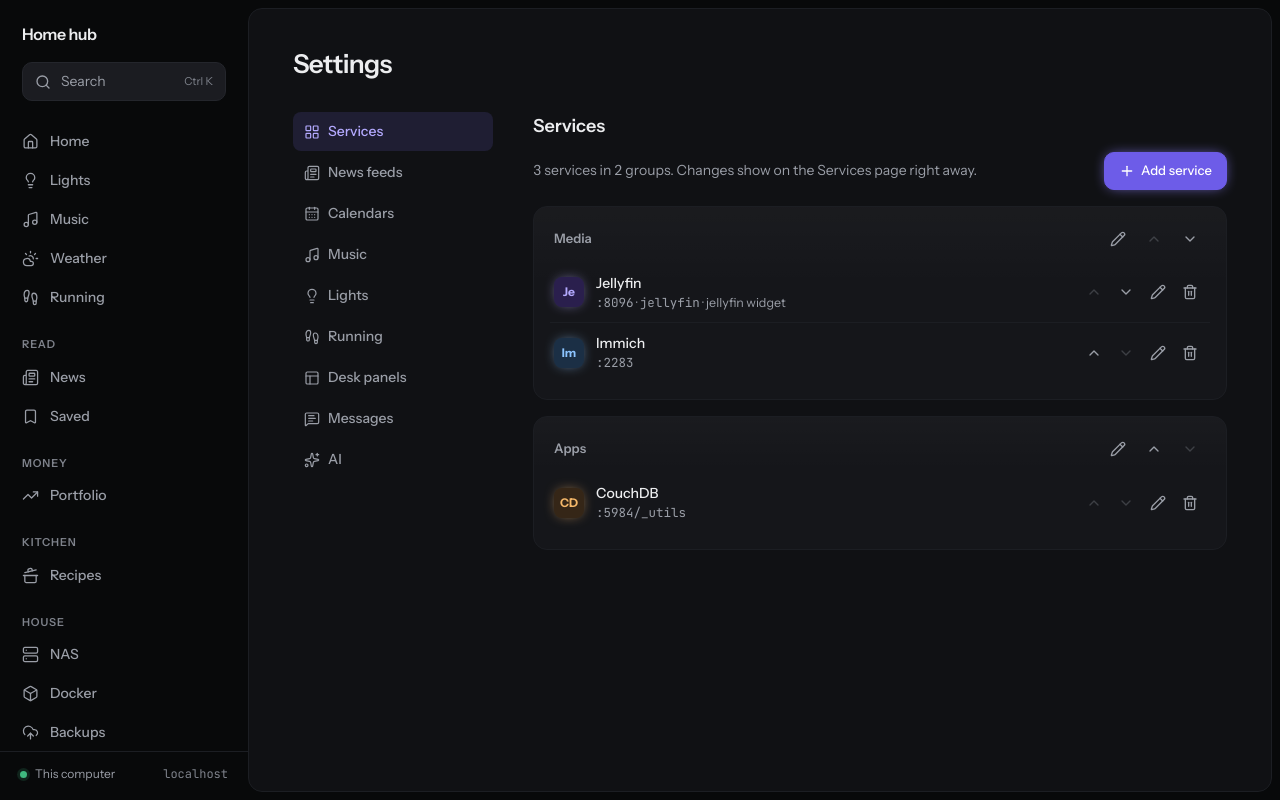
Test case: SettingsPage services › shows list action failures
Click the button named "Move Jellyfin down".
click(1126, 292)  # box [1110,276,1142,308]
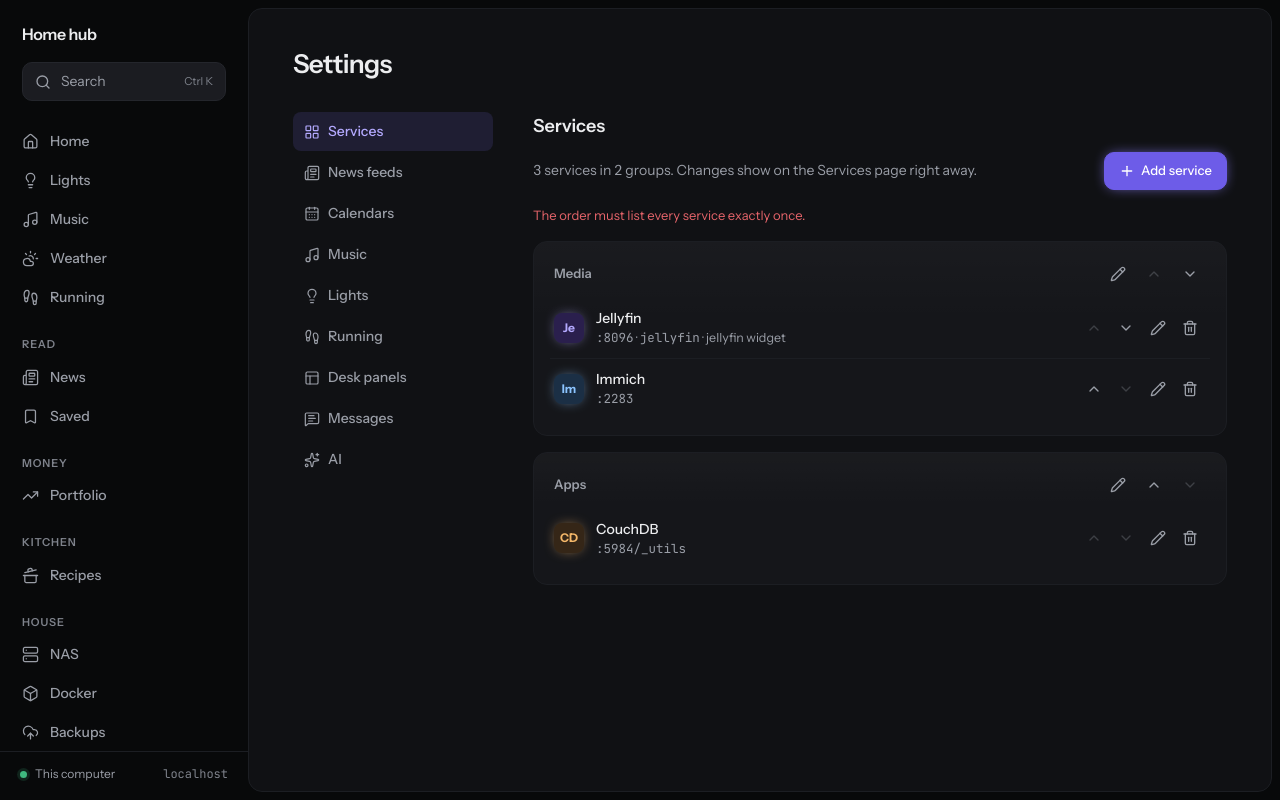
expect the message shows "every service exactly once": met, box [533,206,805,222]
